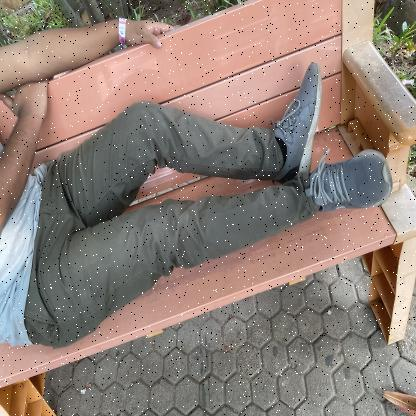hand: (47, 0, 174, 58)
leg: (194, 48, 324, 184), (288, 147, 416, 220)
